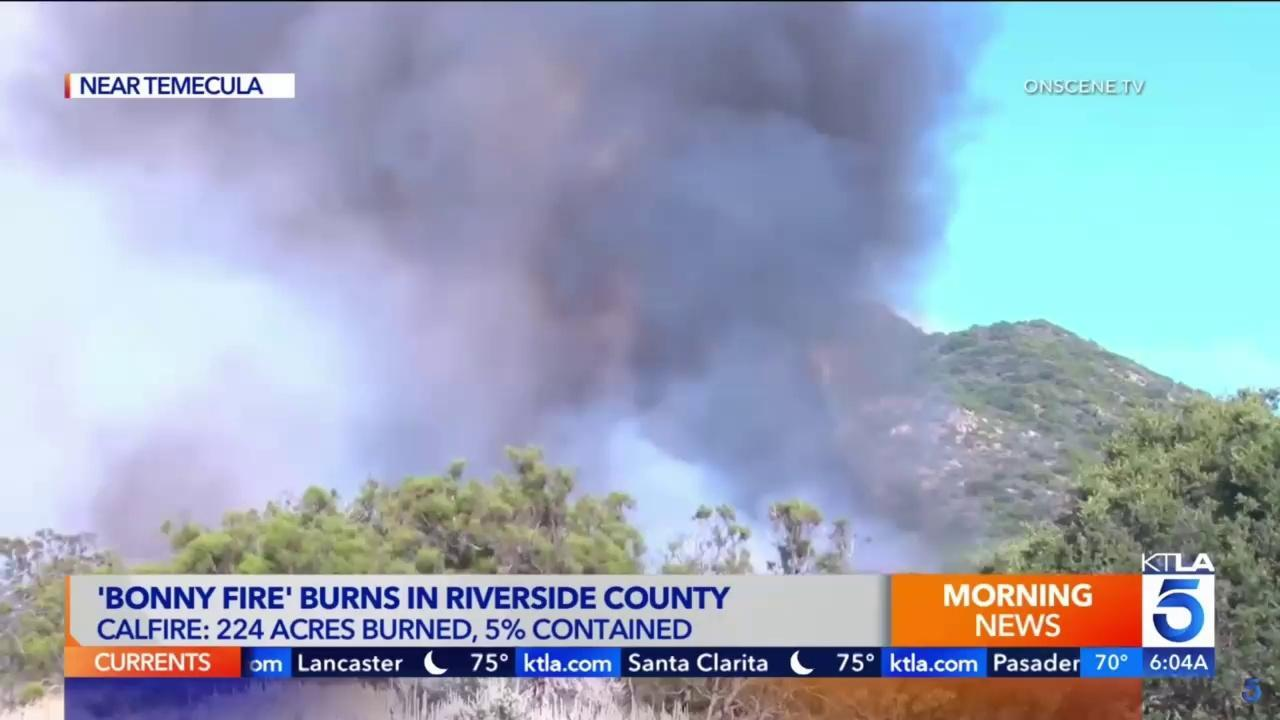smoke: (0, 0, 1009, 573)
